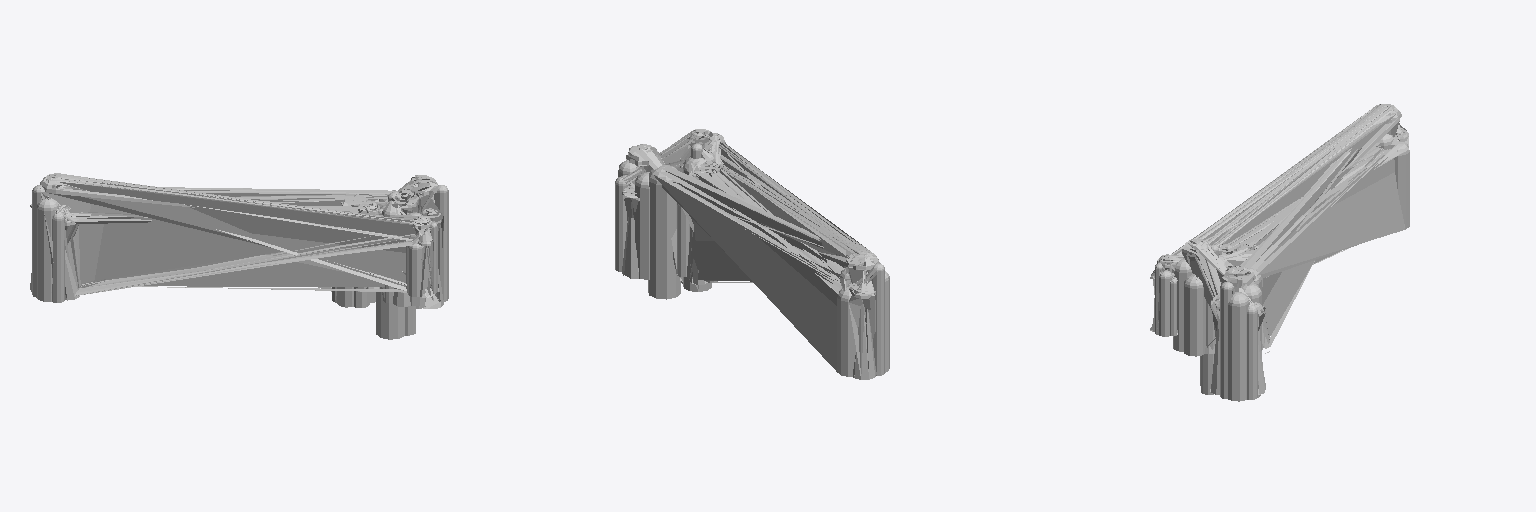
The model's file is cellReef_Intro_Proxy-sharedassets3.assets-634.obj.
3 views of the same model, side by side, from view 1: azimuth 30°, elevation 25°; view 2: azimuth 150°, elevation 25°; view 3: azimuth 270°, elevation 25° (orthographic).
Visible parts, largest first — view 1: cellReef_Intro_Proxy_2, cellReef_Intro_Proxy_1, cellReef_Intro_Proxy_5, cellReef_Intro_Proxy_4, cellReef_Intro_Proxy_0, cellReef_Intro_Proxy_3; view 2: cellReef_Intro_Proxy_2, cellReef_Intro_Proxy_5, cellReef_Intro_Proxy_1, cellReef_Intro_Proxy_0, cellReef_Intro_Proxy_4; view 3: cellReef_Intro_Proxy_2, cellReef_Intro_Proxy_5, cellReef_Intro_Proxy_1, cellReef_Intro_Proxy_4, cellReef_Intro_Proxy_0.
Part boxes in pixels (x1,y1,x2,y2): cellReef_Intro_Proxy_2: (35, 174, 447, 308); cellReef_Intro_Proxy_1: (31, 174, 436, 297); cellReef_Intro_Proxy_5: (32, 185, 448, 339); cellReef_Intro_Proxy_4: (41, 173, 432, 295); cellReef_Intro_Proxy_0: (30, 173, 433, 306); cellReef_Intro_Proxy_3: (30, 190, 79, 300); cellReef_Intro_Proxy_2: (615, 129, 882, 379); cellReef_Intro_Proxy_5: (615, 144, 889, 376); cellReef_Intro_Proxy_1: (714, 133, 889, 375); cellReef_Intro_Proxy_0: (679, 129, 880, 379); cellReef_Intro_Proxy_4: (720, 150, 875, 293); cellReef_Intro_Proxy_2: (1150, 108, 1405, 394); cellReef_Intro_Proxy_5: (1155, 134, 1409, 401); cellReef_Intro_Proxy_1: (1150, 106, 1409, 331); cellReef_Intro_Proxy_4: (1157, 104, 1406, 334); cellReef_Intro_Proxy_0: (1150, 104, 1406, 353).
Size of the model in its own units: 49.78 by 22.08 by 33.03.